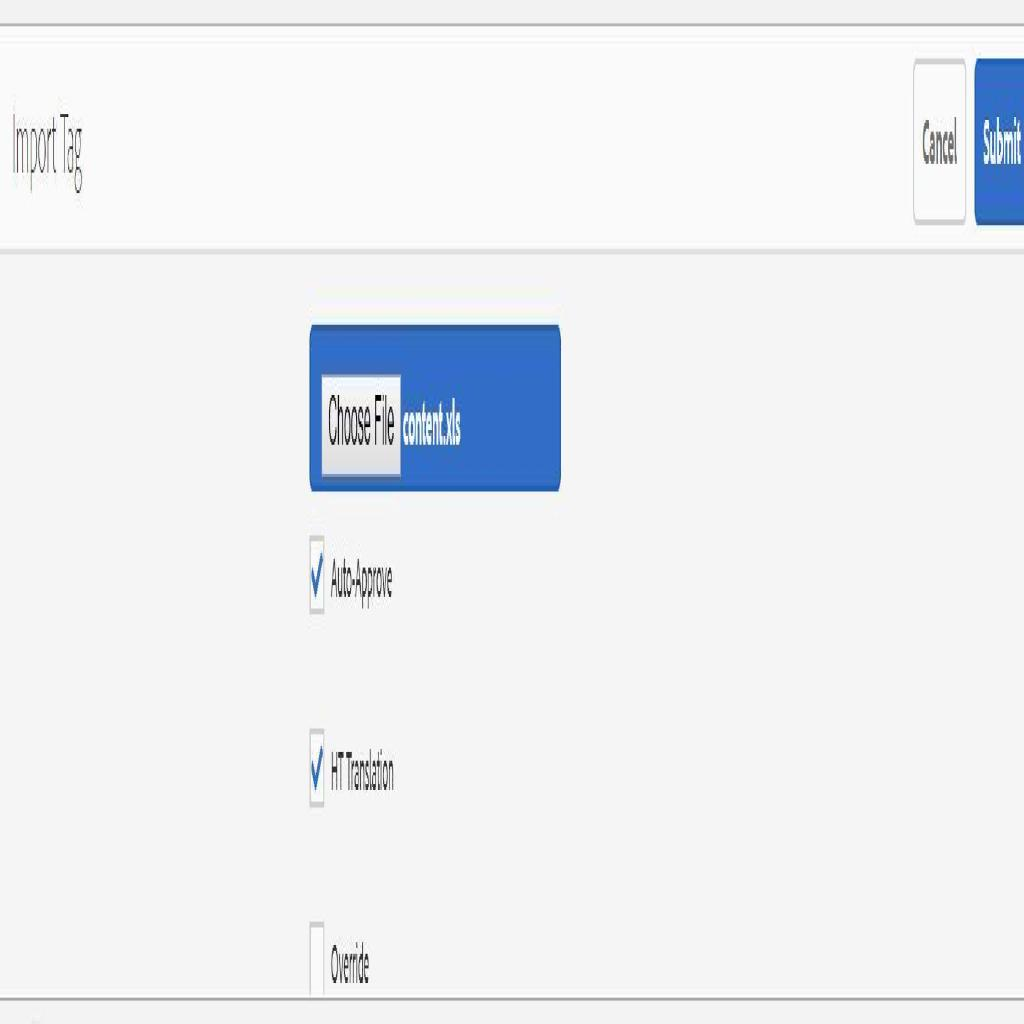button: (913, 58, 967, 226), (973, 53, 1024, 228), (322, 371, 400, 477)
checkbox: (309, 532, 326, 620), (308, 734, 325, 816), (309, 930, 325, 1010)
label: (329, 714, 401, 837), (328, 527, 398, 626), (329, 934, 371, 1004)
